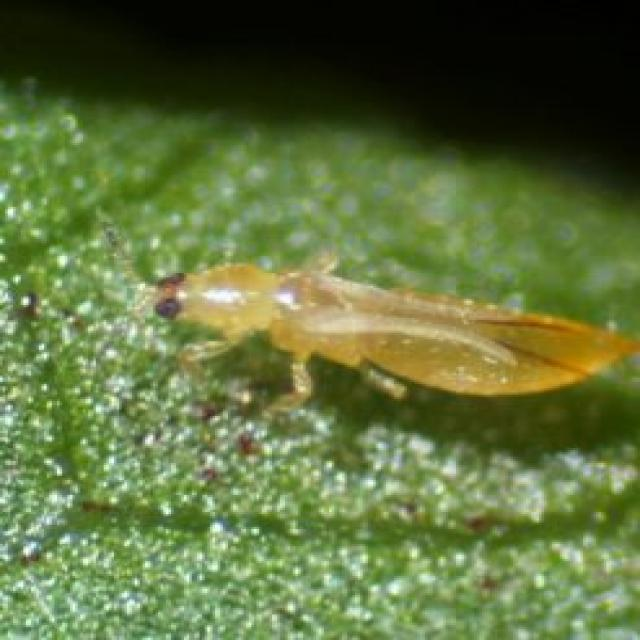Thrip-Larva-: (120, 222, 638, 410)
